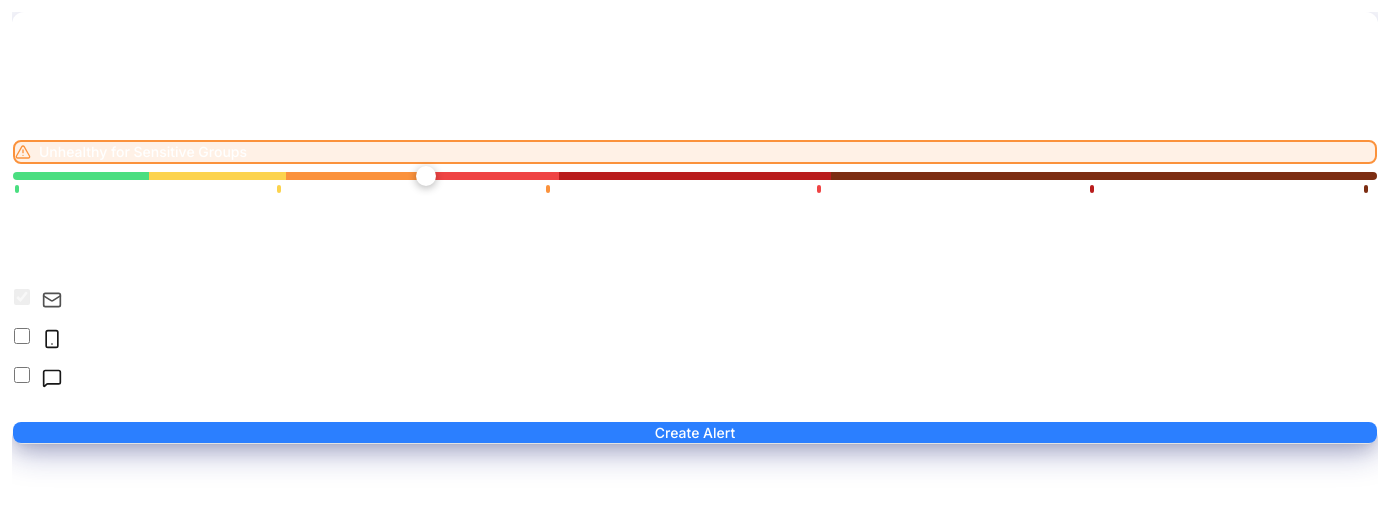
Test: AlertConfigurationCardConnected › Error Handling › should show error message for 400 bad request
Click the button "Create Alert": click(695, 432) [13,422,1377,443]
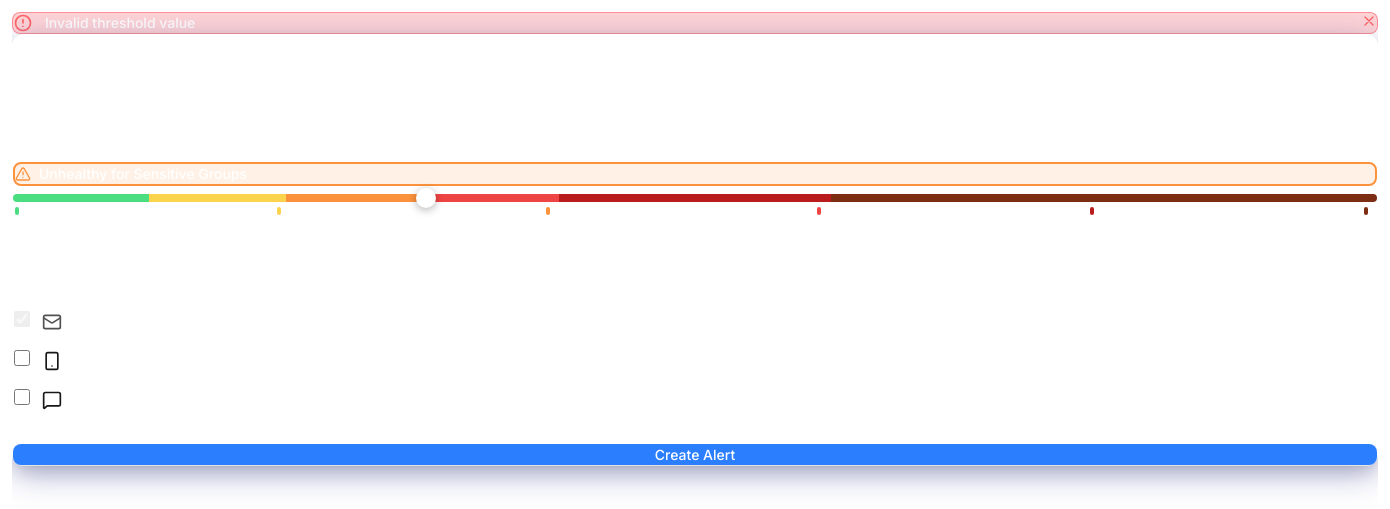
Expected: the text "Invalid threshold value" is shown, [45,14,195,31]
